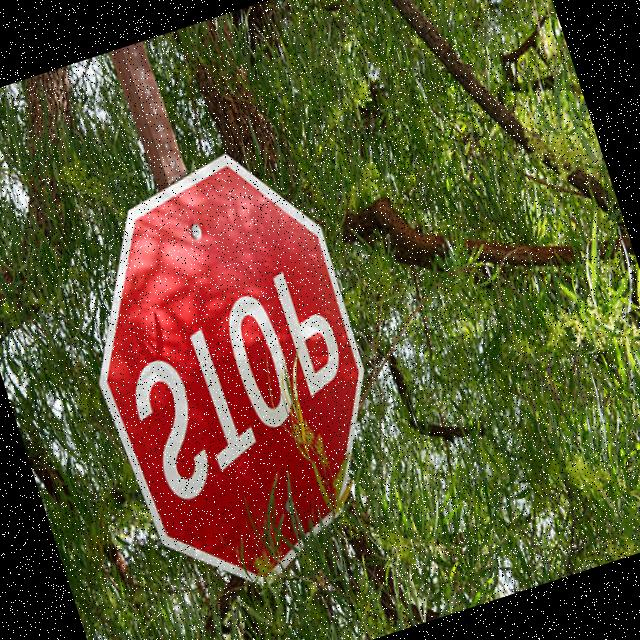stop: (40, 125, 432, 618)
